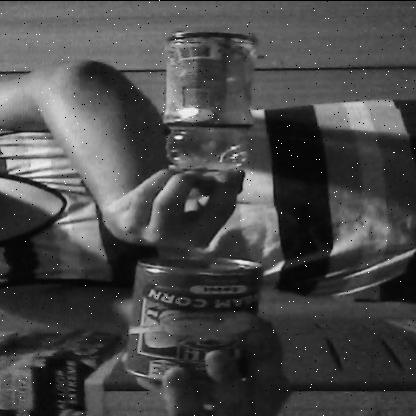Plastic Bottle: (143, 22, 275, 205)
